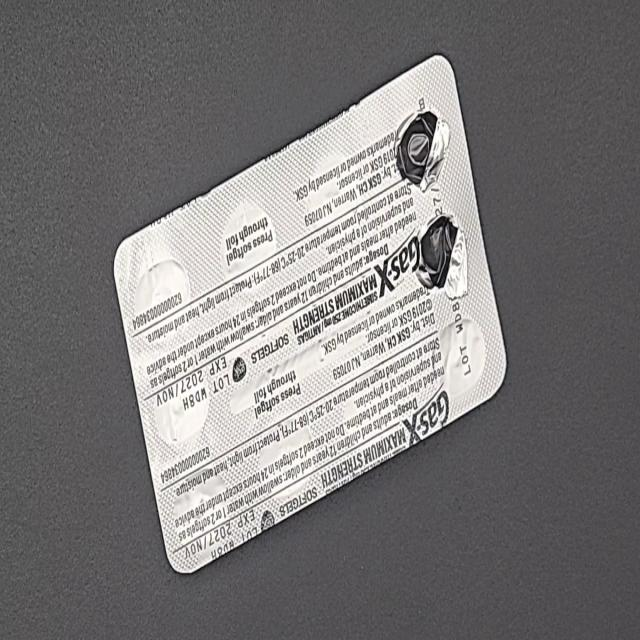defect: (411, 212, 471, 301), (392, 107, 452, 195)
